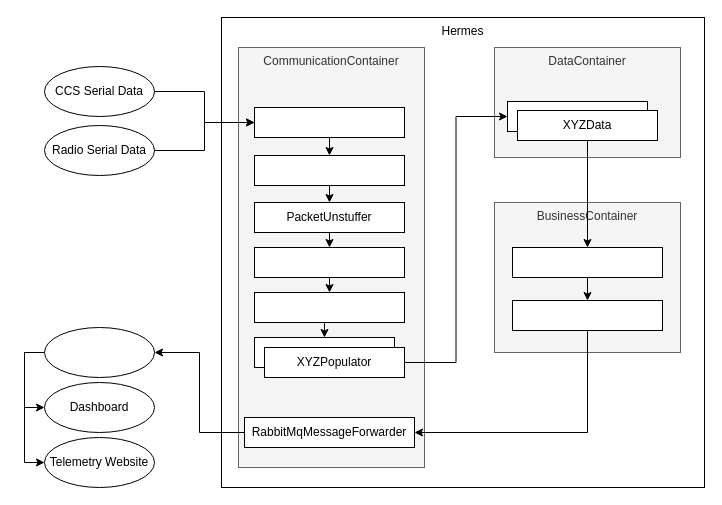
This 722x505 diagram has some shape labels left out. Each missing label, with the centre of its shape:
JsonForwarder: point 587,315
JsonMessageBuilder: point 587,262
PacketChecksumChecker: point 329,262
PacketDecoder: point 329,307
PacketSynchronizer: point 329,170
RabbitMq: point 99,352
RadioCommDevice: point 329,122
